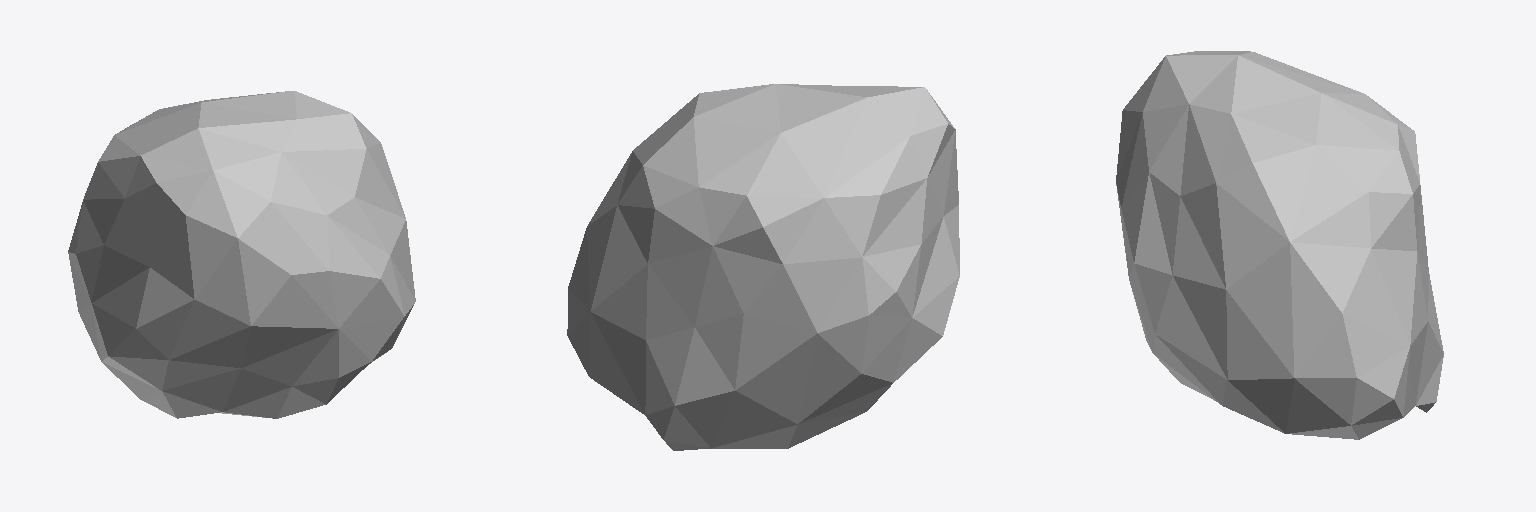
The model's file is Rock_3_J_Color1.obj.
3 renders of one model, left to right at view 1: azimuth 30°, elevation 25°; view 2: azimuth 150°, elevation 25°; view 3: azimuth 270°, elevation 25°, orthographic.
Visible parts, largest first — view 1: Rock_3_J_Color1; view 2: Rock_3_J_Color1; view 3: Rock_3_J_Color1.
Part boxes in pixels (left/top/right/bottom): Rock_3_J_Color1: left=68, top=91, right=415, bottom=418; Rock_3_J_Color1: left=567, top=84, right=959, bottom=450; Rock_3_J_Color1: left=1116, top=51, right=1443, bottom=439.
Size of the model in its own units: 1.97 by 1.9 by 1.74.